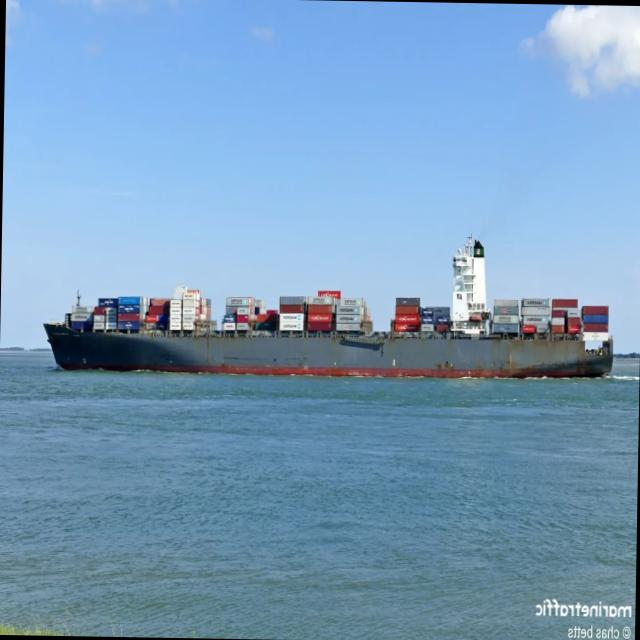Cargo: (44, 237, 612, 377)
